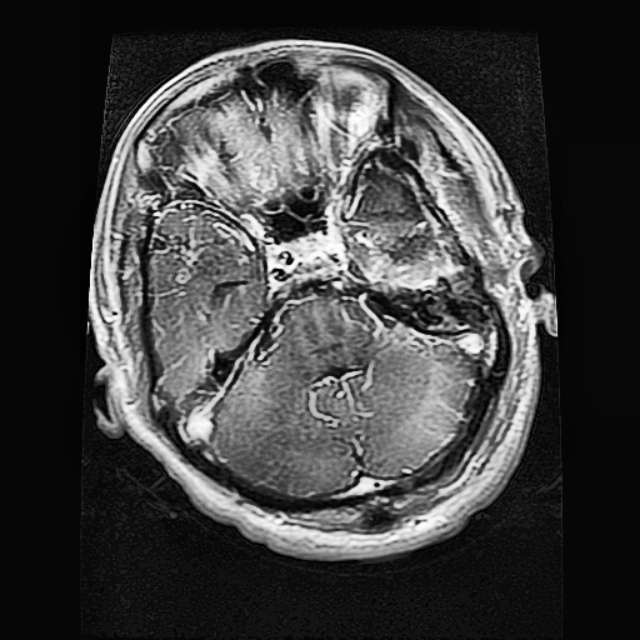Pituitary: (354, 215, 457, 290)
